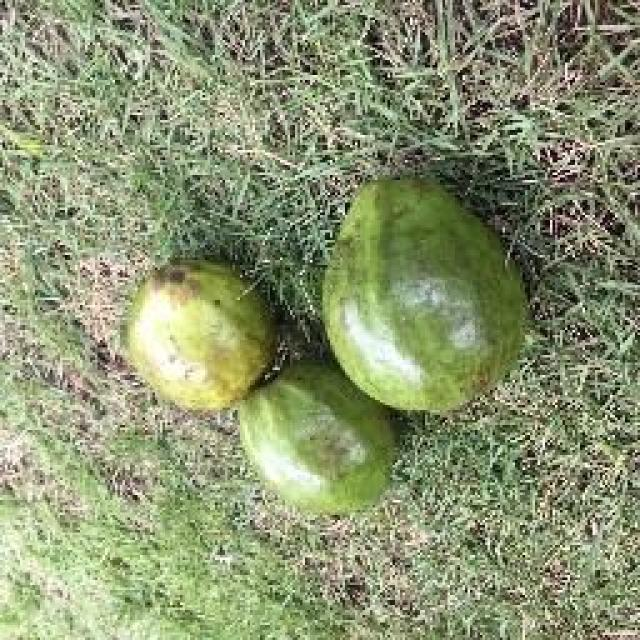Good_Guava: (320, 175, 530, 418)
